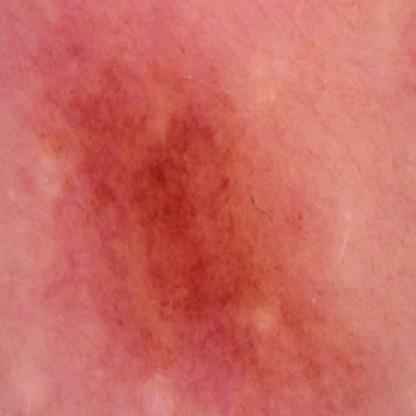benign: (28, 28, 319, 368)
